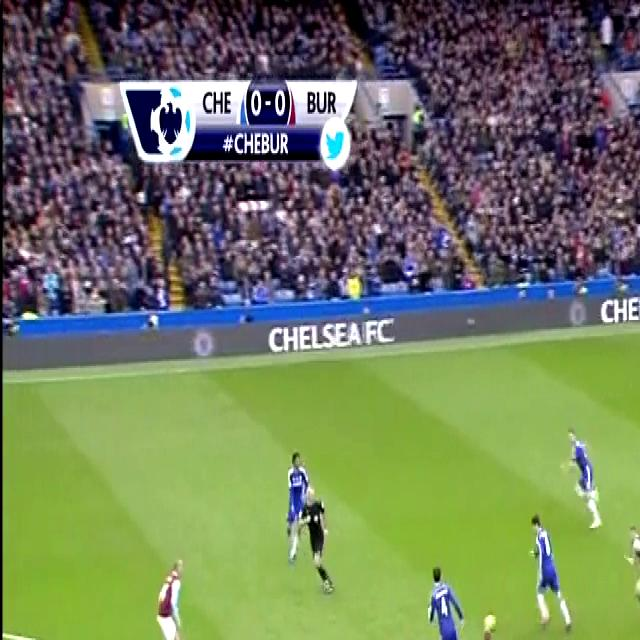ball: (474, 610, 507, 640)
referee: (301, 486, 340, 604)
soccer-player: (524, 505, 572, 640), (561, 427, 602, 531), (276, 433, 308, 561), (422, 554, 465, 640), (153, 551, 192, 640), (620, 526, 640, 631)
